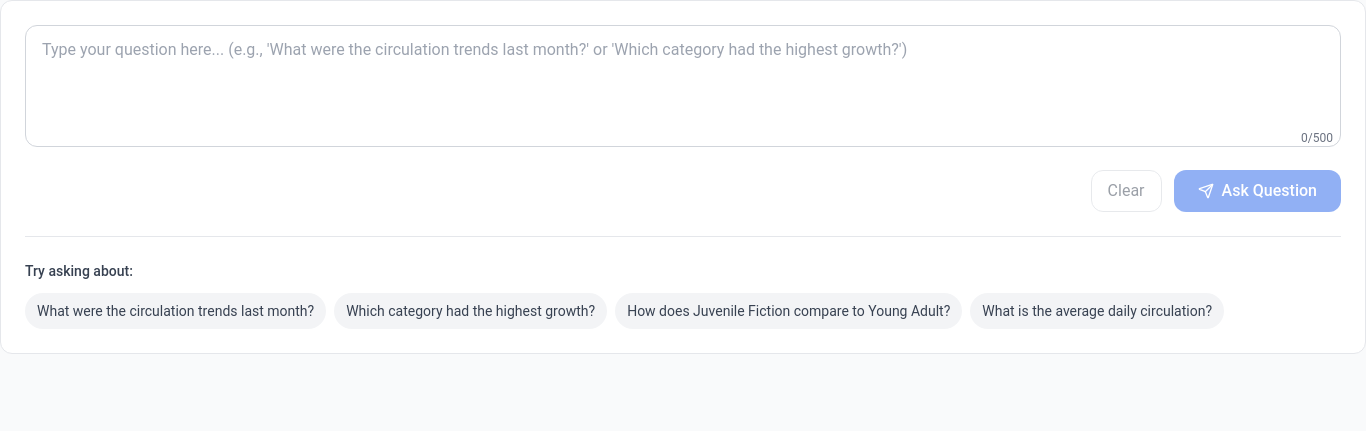
it: QuestionsSection Component › clears the textarea and error when Clear is clicked
The image size is (1366, 431).
Step 1. Type "Hi" into the text box → (683, 86), box [25, 25, 1341, 147]
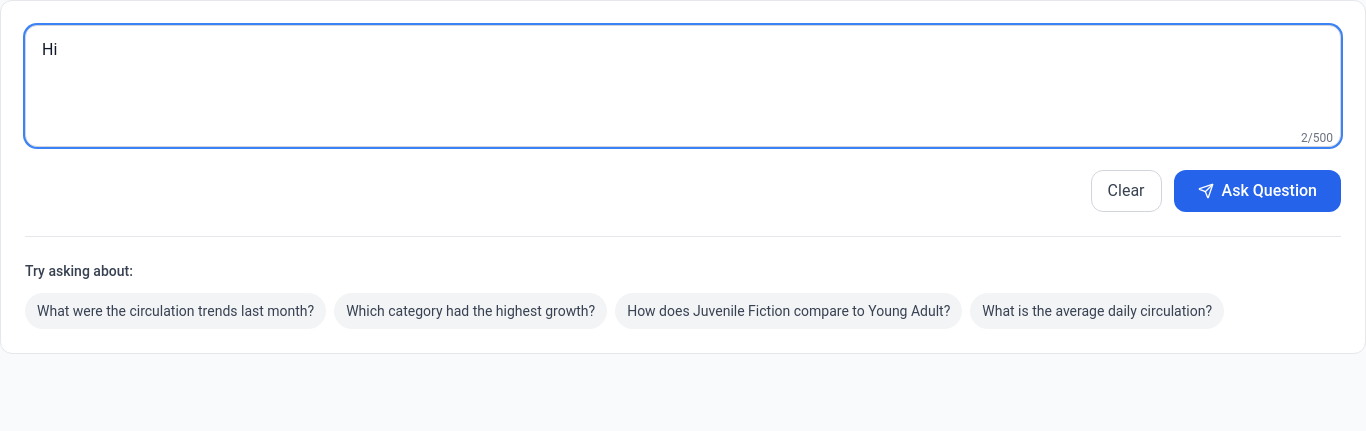
Step 2. Click the button "Ask Question" → (1257, 191), box [1174, 170, 1341, 212]
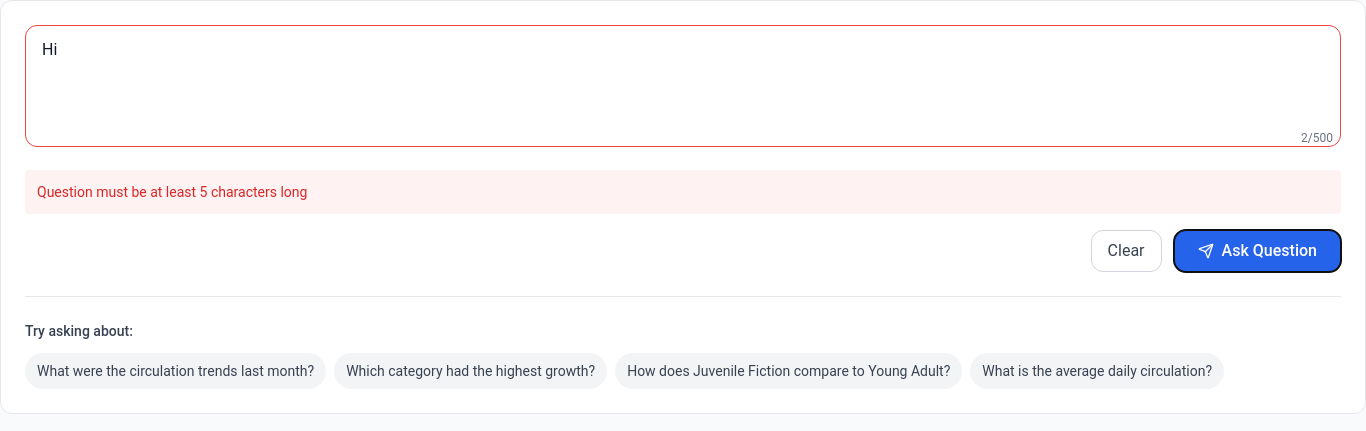
Expected: the text "Question must be at least 5 characters long" is shown, [25, 170, 1341, 214]
Step 3. Click the button "Clear" → (1126, 251), box [1091, 230, 1162, 272]
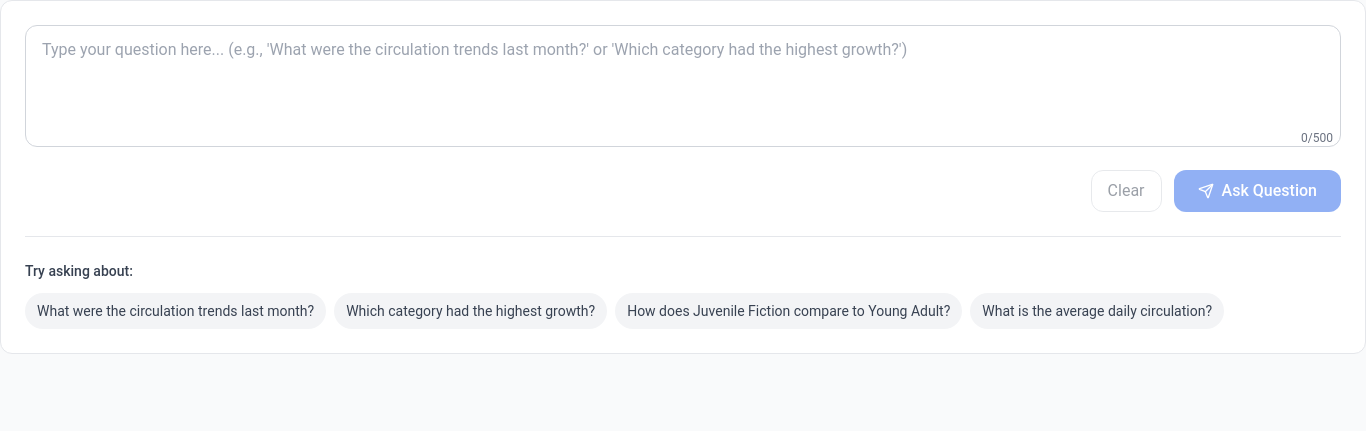
Expected: the text box is empty, [25, 25, 1341, 147]
Expected: the text "Question must be at least 5 characters long" is gone
